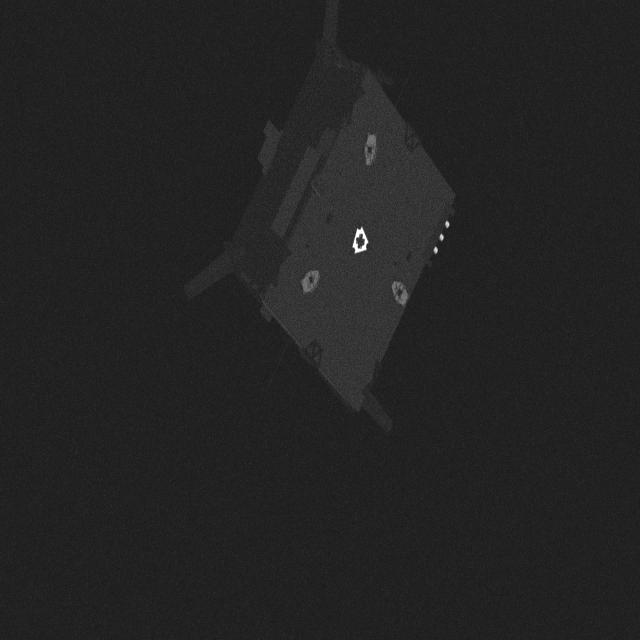satellite: (188, 16, 466, 438)
